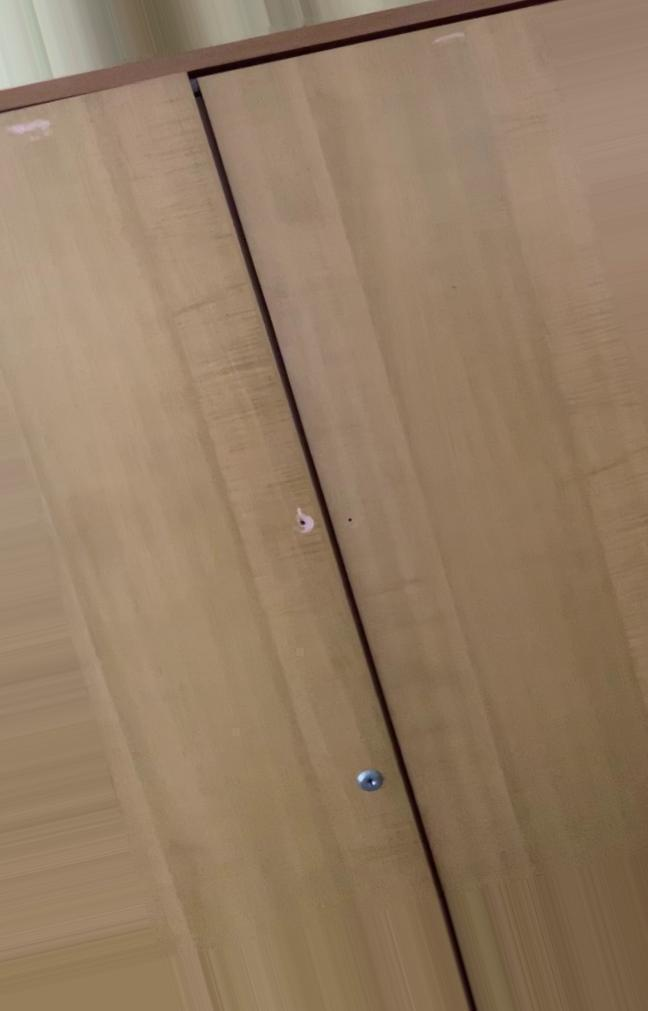Armario: (0, 4, 635, 998)
